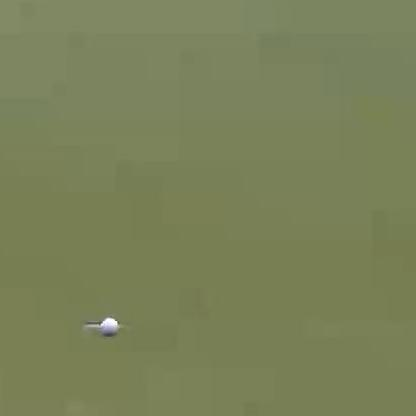golfball: (99, 315, 117, 335)
